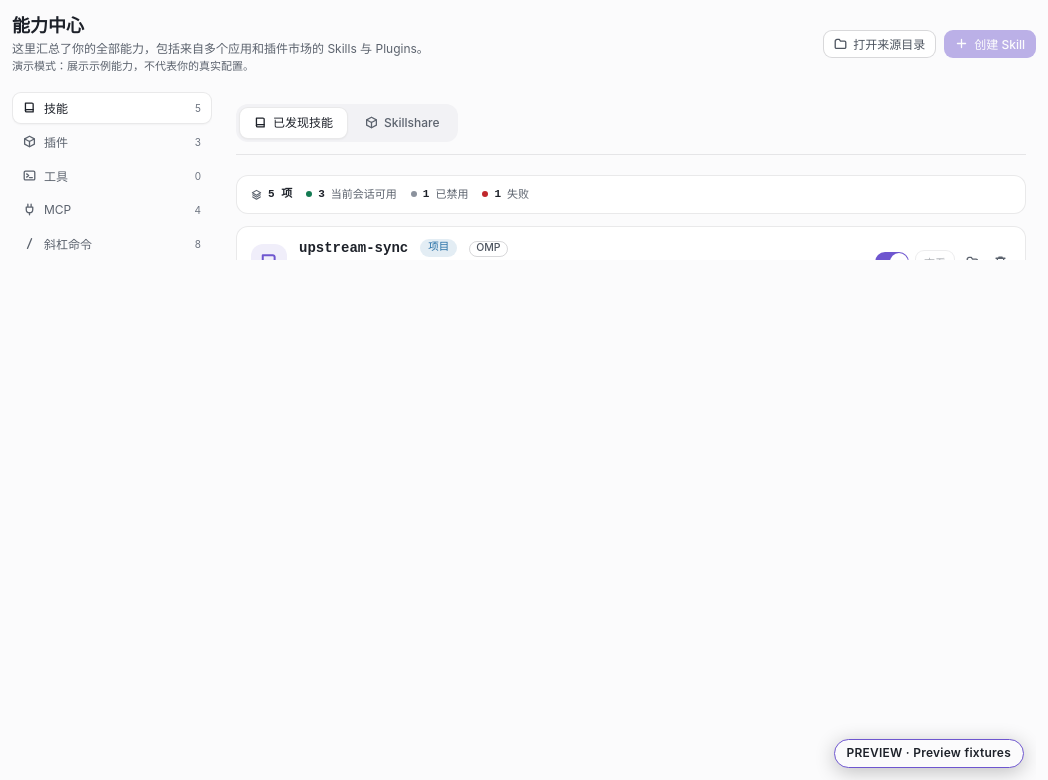
CapabilitiesPage command manifest › keeps preview fixtures and does not query the Runtime manifest
The width and height of the screenshot is (1048, 780).
Step 1. Click the tab "斜杠命令 8" → (112, 244), box [12, 228, 212, 260]
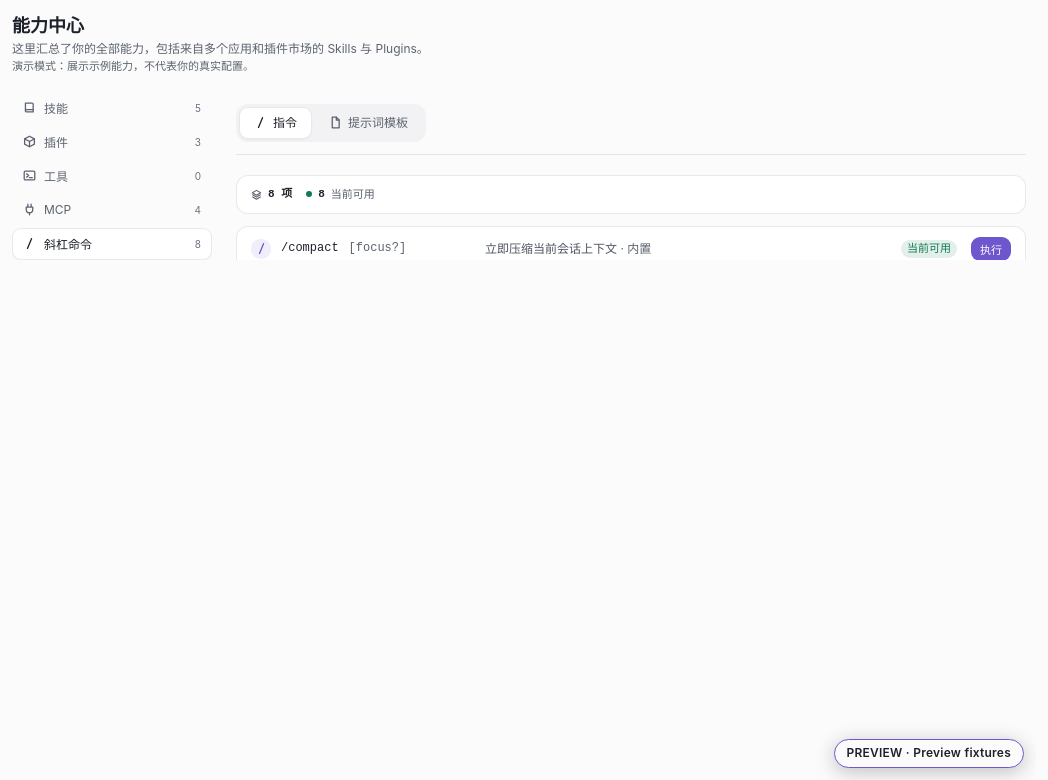
Check: the text "/compact" is shown, box [281, 239, 339, 258]
